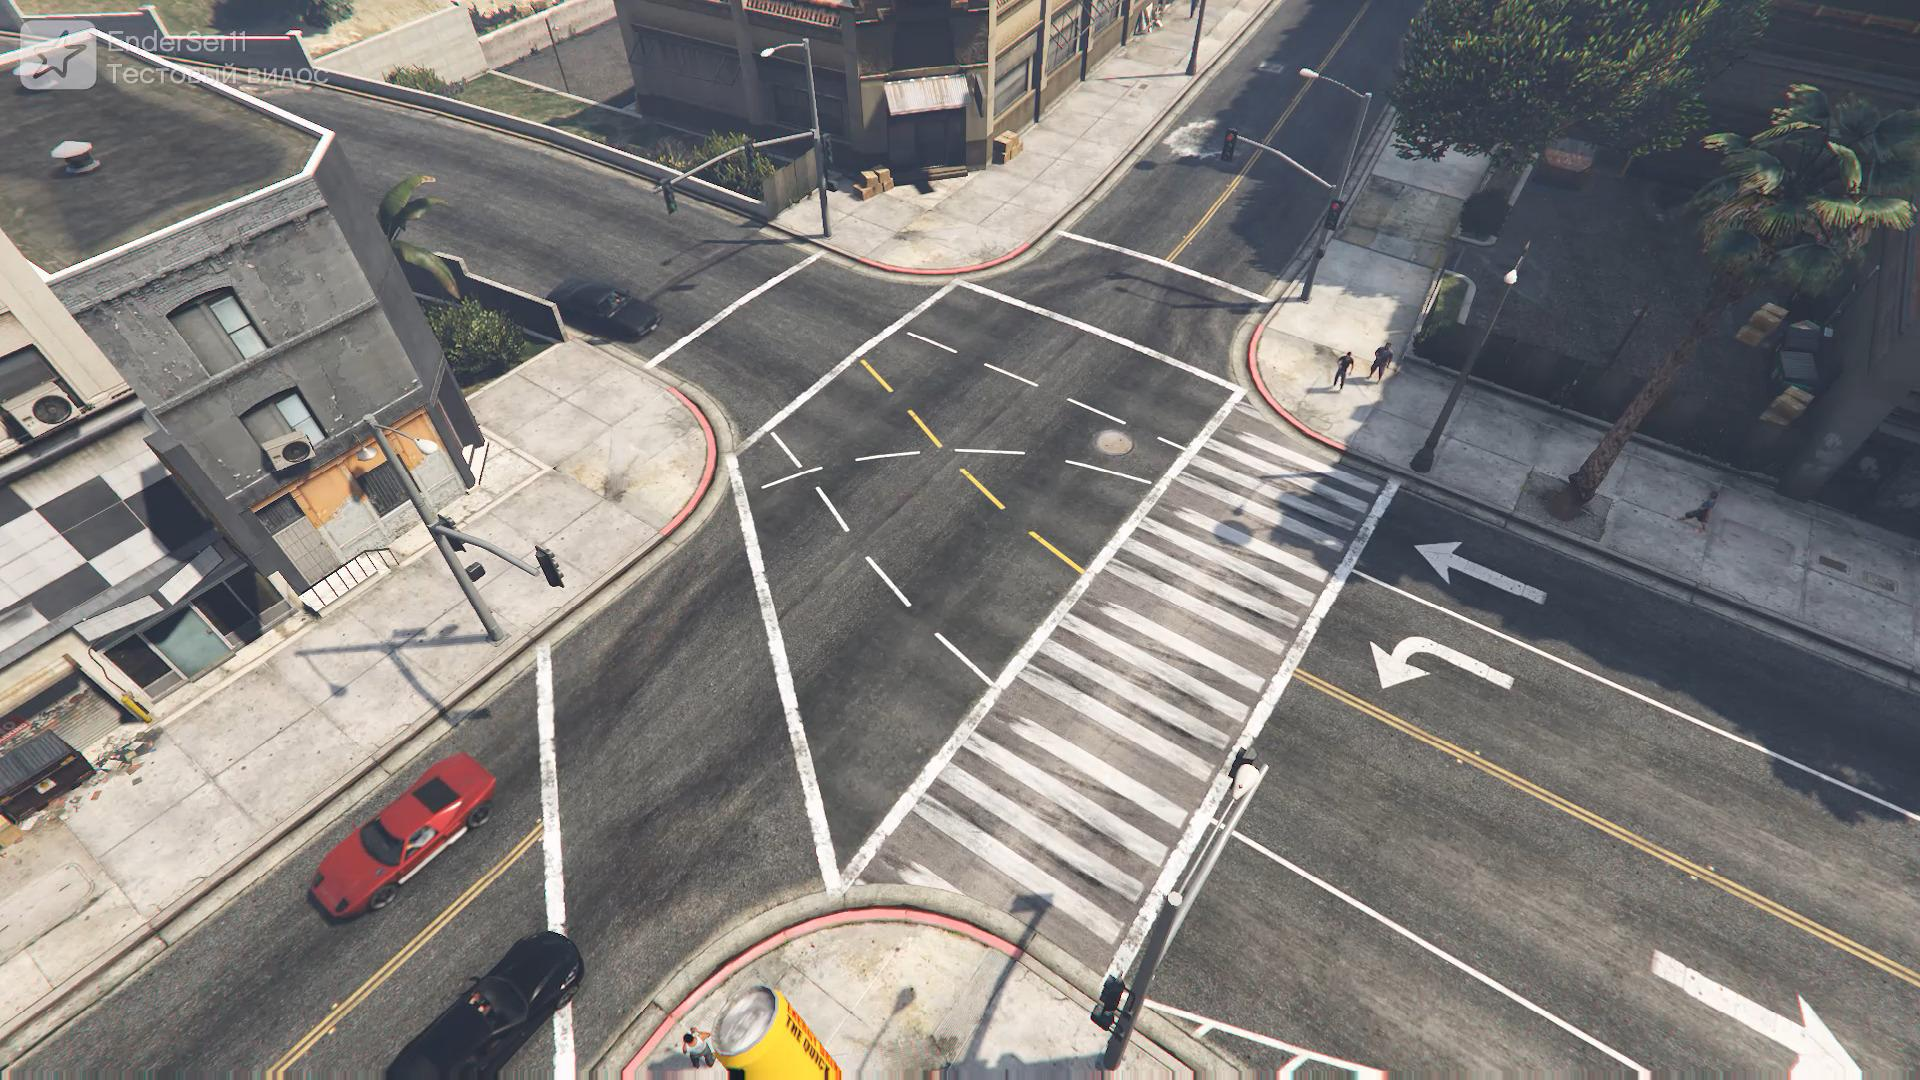car: (306, 752, 497, 924), (382, 930, 584, 1079), (545, 276, 661, 342)
